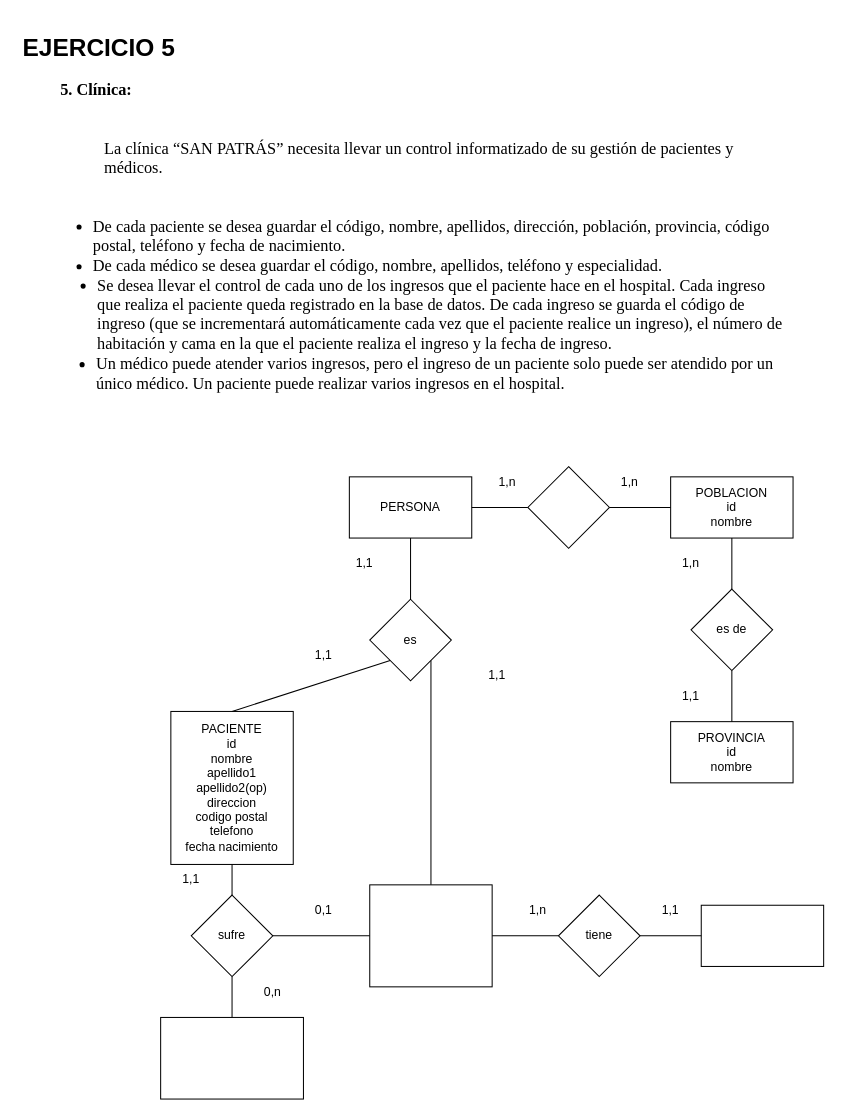
This 842x1117 diagram has some shape labels left out. The box of each missing label's shape, as (x1, y1, x2, y2) in pixels:
ESPECIALIDAD id nombre: (700, 904, 824, 966)
INGRESO id (AI) numero_habitacion(op) numero_cama fecha: (160, 1016, 303, 1099)
MEDICO id nombre apellido1 apellido2(op) telefono: (369, 884, 492, 987)
vive: (527, 466, 609, 548)
